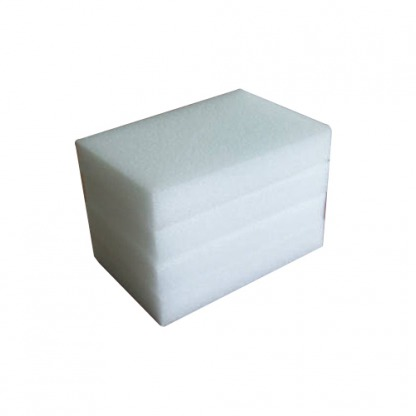Foam Box: (69, 86, 335, 331)
